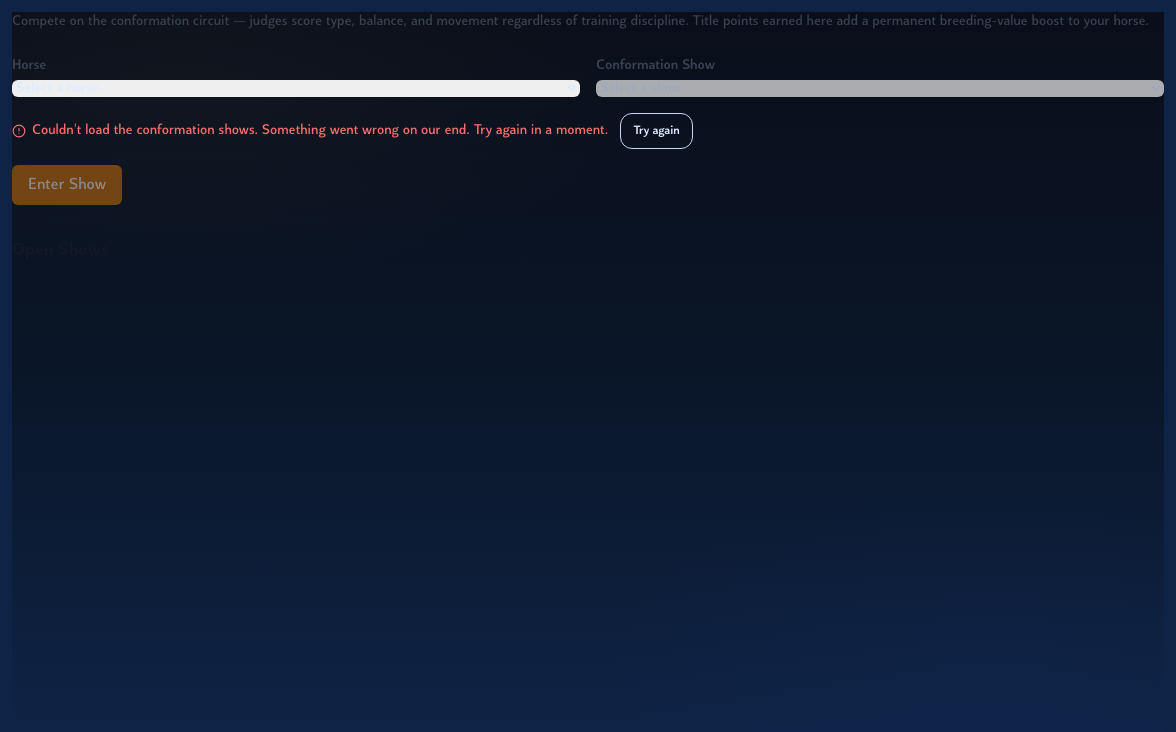
Test: ConformationShowsPanel competitions error (Equoria-gle1m #2) › offers a retry, does not claim "no open shows", and recovers
Expected: the message is shown, [12, 121, 608, 141]
Click the button "Try again". click: [656, 131]
box: [620, 113, 693, 149]
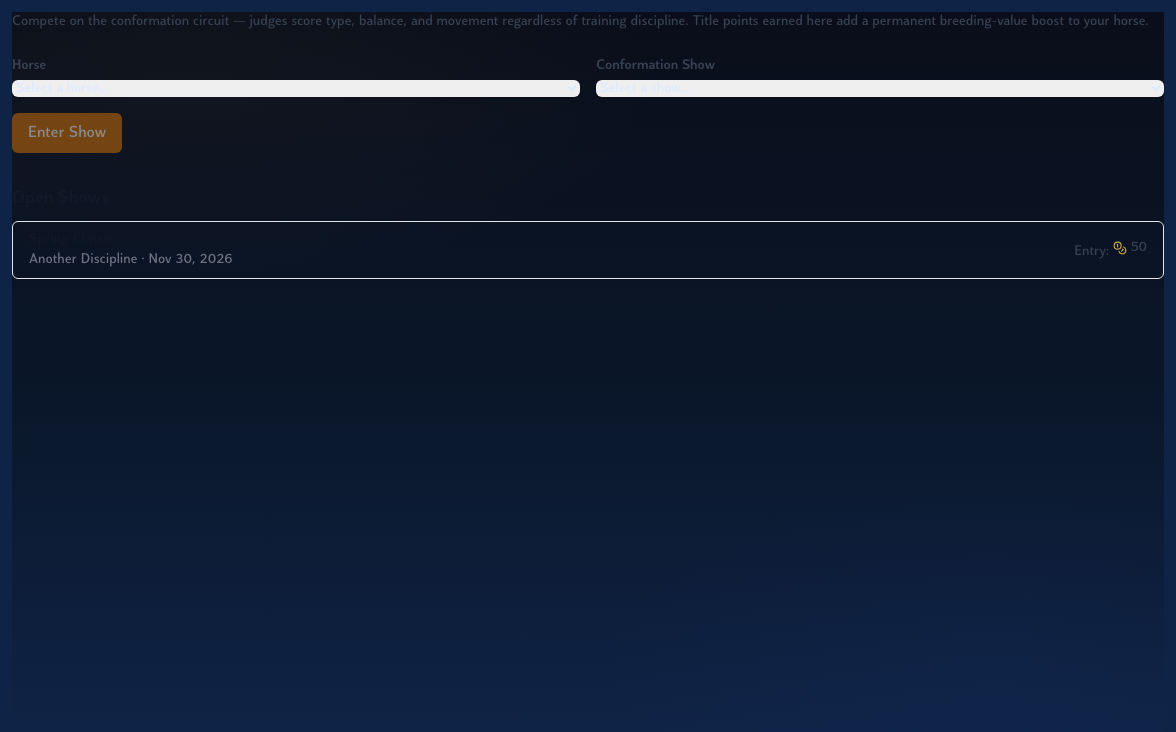
Now the list item with test id "conformation-show-row-9" is shown, box [13, 222, 1163, 278]
Now the message is gone
